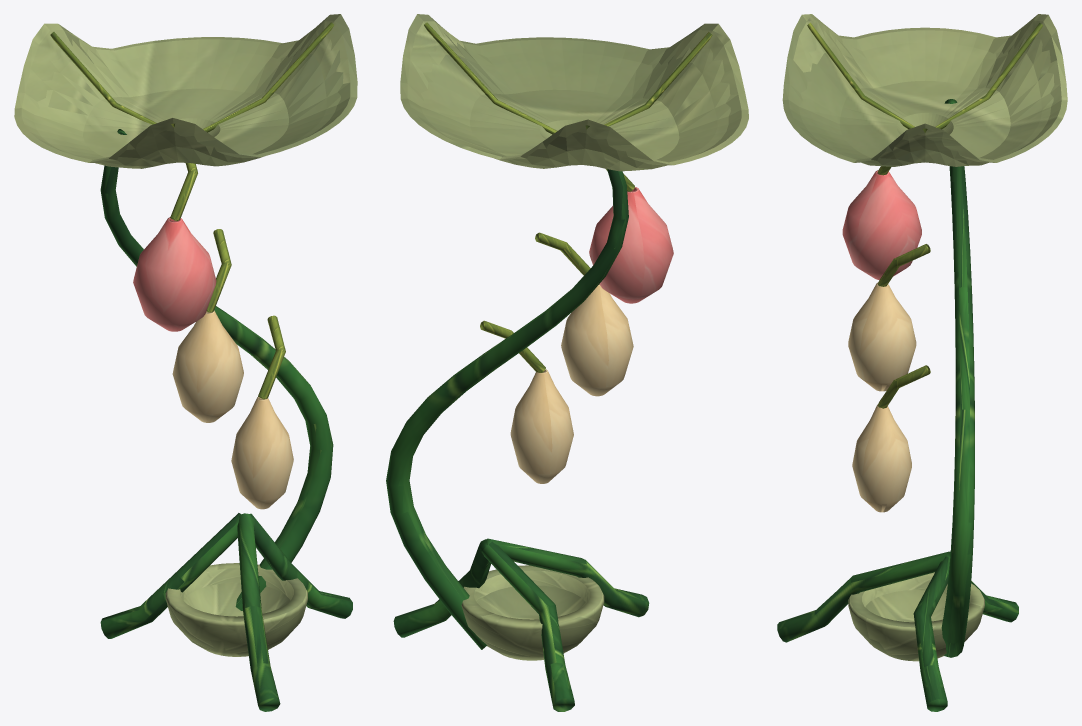
The model's file is revised-01-06.glb.
3 views of the same model, side by side, from view 1: azimuth 30°, elevation 25°; view 2: azimuth 150°, elevation 25°; view 3: azimuth 270°, elevation 25° (orthographic). The views are drawn at different scales.
Parts seen in each view (by area): view 1: rain_tower; view 2: rain_tower; view 3: rain_tower.
Boxes of the visible parts, x1,y1,x2,y2 form: rain_tower: [14, 14, 357, 711]; rain_tower: [386, 14, 748, 711]; rain_tower: [777, 14, 1067, 711].
Size of the model in its own units: 1.26 by 2.26 by 1.01.
Materials: 1 (1 with a texture image).
